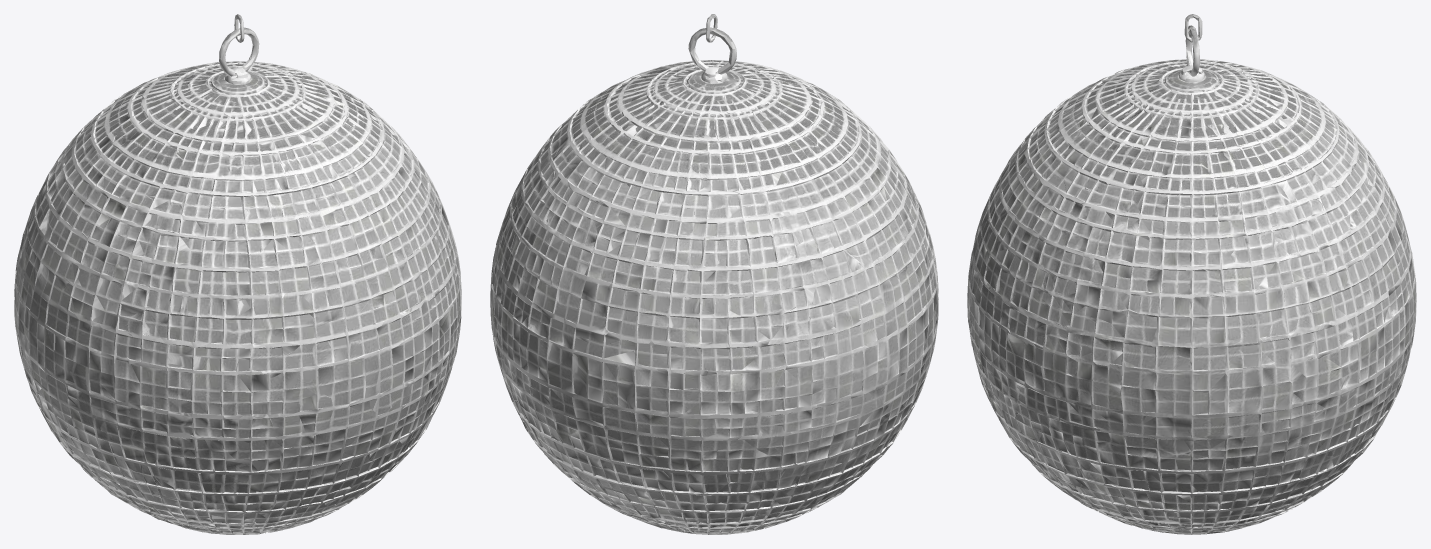
File: disco-ball.glb
3 views of the same model, side by side, from view 1: azimuth 30°, elevation 25°; view 2: azimuth 150°, elevation 25°; view 3: azimuth 270°, elevation 25° (orthographic).
Parts seen in each view (by area): view 1: Mesh_0; view 2: Mesh_0; view 3: Mesh_0.
Boxes of the visible parts, left/top/right/bottom form: Mesh_0: left=14, top=14, right=461, bottom=534; Mesh_0: left=490, top=14, right=938, bottom=534; Mesh_0: left=967, top=14, right=1416, bottom=534.
Bounding box in the file's own units: 0.8101 × 1 × 0.8098.
Materials: 1 (1 with a texture image).
